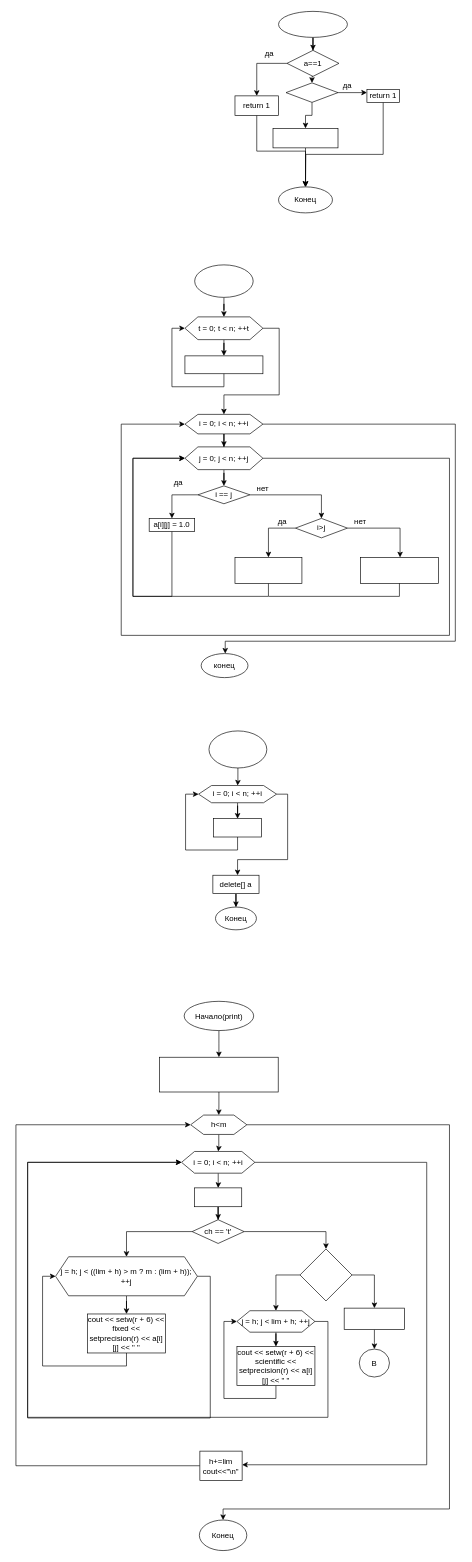
This 472x1562 diagram has some shape labels left out. Here are the shapes that lost their labels. From the top down, the box of each, then its label:
(278, 11, 347, 37): Начало(fa)
(285, 82, 338, 102): a==0
(272, 128, 338, 148): return a*fa(a-1)
(194, 264, 253, 297): Начало(fill)
(184, 355, 263, 374): a[t] = new double[n]
(234, 557, 302, 583): a[i][j] = pow(x, i) / pow((fa(j)), i)
(360, 557, 438, 583): a[i][j] = pow((-1 * x), i) / pow((fa(j)), i)
(208, 730, 267, 768): начало (clear)
(213, 818, 262, 837): delete[] a[i]
(159, 1057, 278, 1092): lim = min(80 / (r + 10), m) h = 0 j = 0
(194, 1187, 242, 1207): cout<<"\n"
(299, 1248, 352, 1301): ch == 's'
(344, 1307, 405, 1330): cout << "Error"
